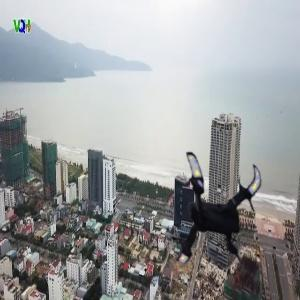drone: (144, 148, 281, 285)
